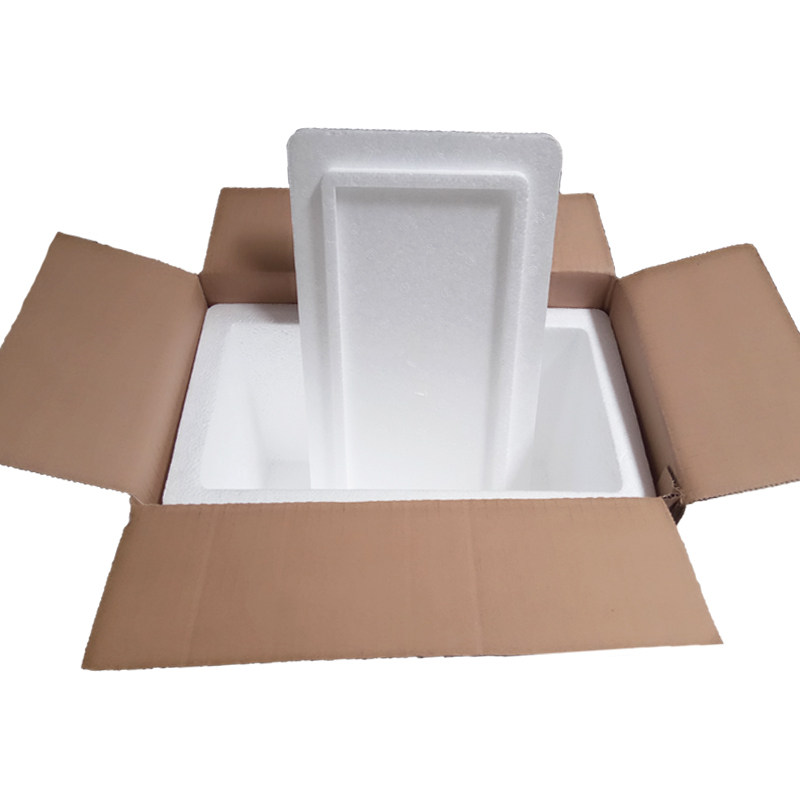泡沫箱: (163, 129, 653, 504)
